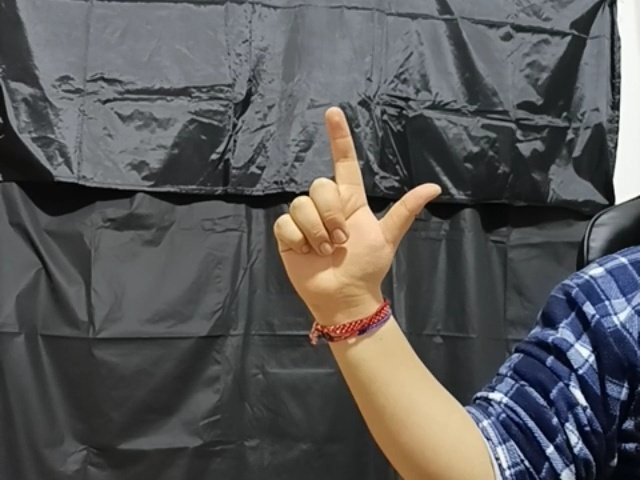L: (272, 105, 444, 309)
